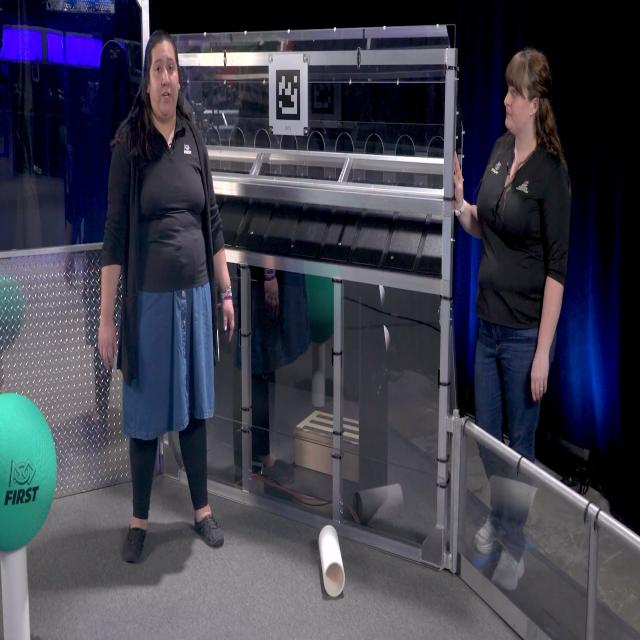Algae: (0, 393, 57, 552)
Coral: (0, 544, 31, 640), (318, 524, 346, 598)
